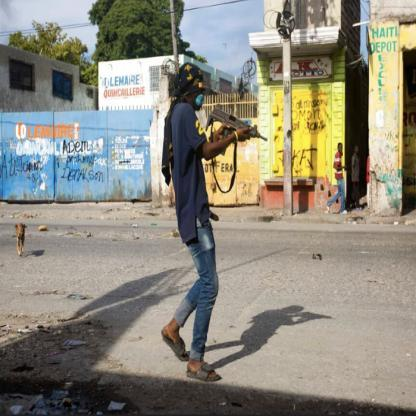criminal: (160, 63, 269, 384)
weapon: (205, 103, 269, 143)
